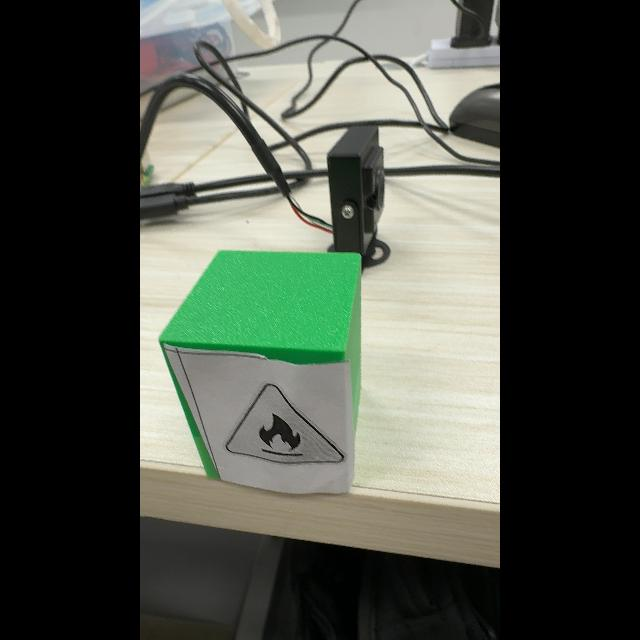Fire: (226, 384, 344, 464)
